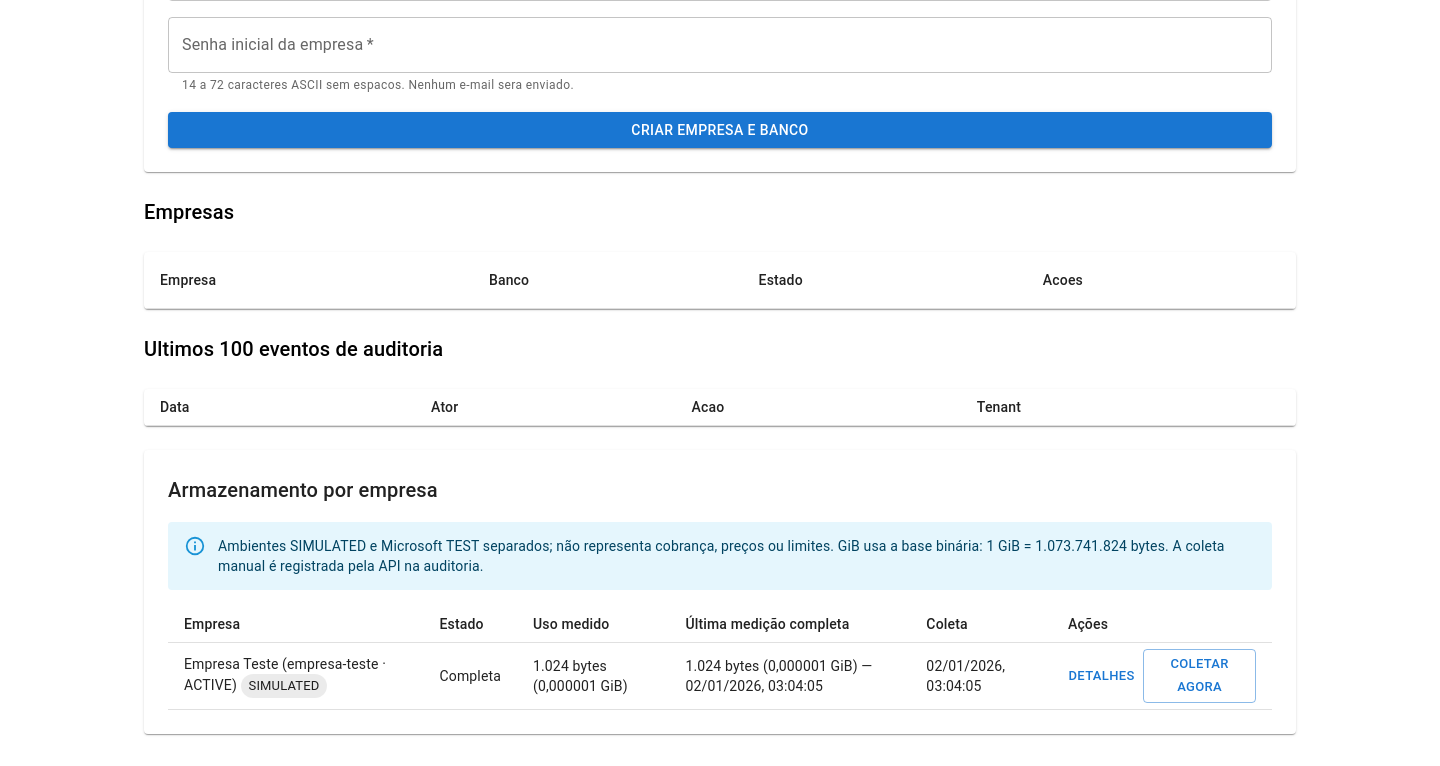
Test: explains that a platform collection is already running on HTTP 409
(page scrolled)
Click the button "Coletar agora". click: {"x": 1200, "y": 676}
box: [1143,649,1256,703]
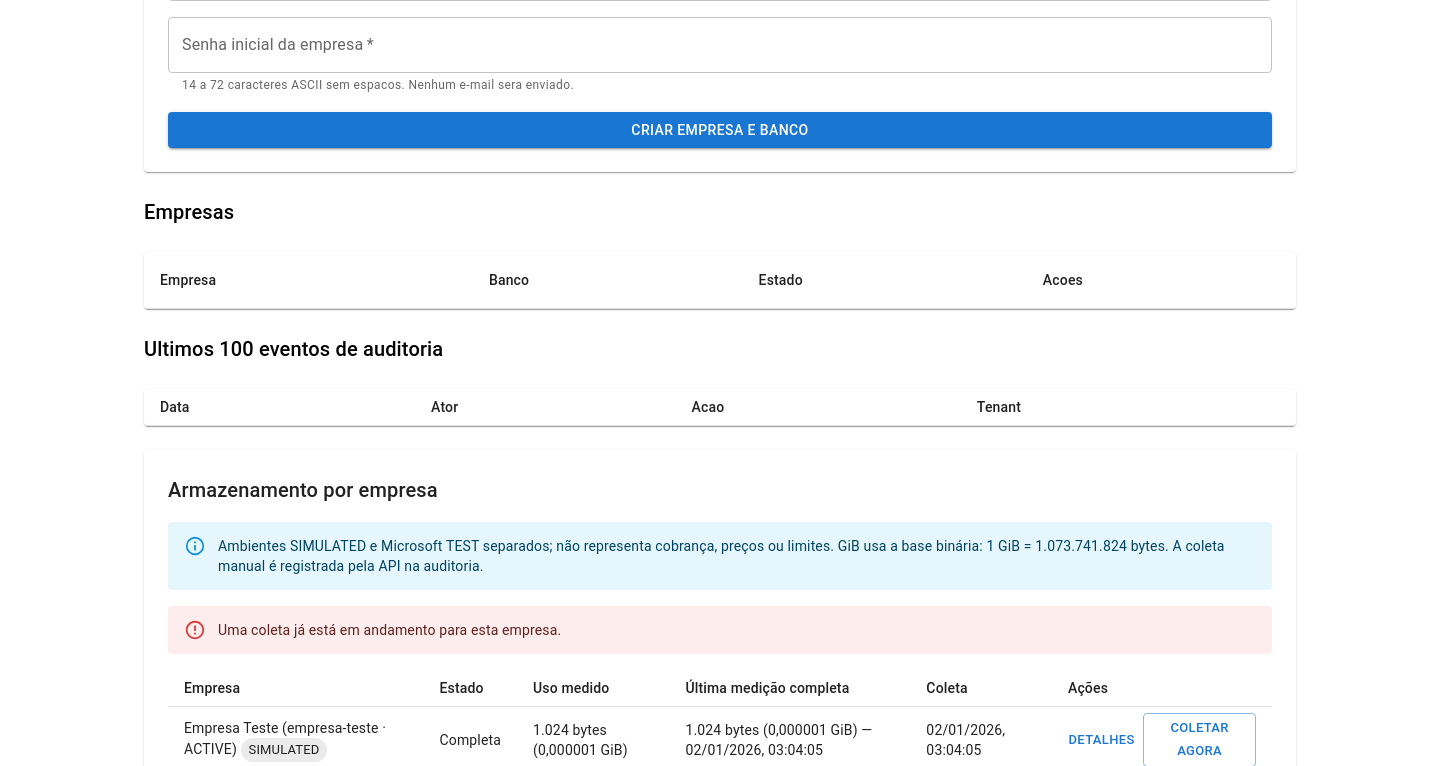
Now the text "Uma coleta já está em andamento para esta empresa." is shown, box [218,622,561,638]
